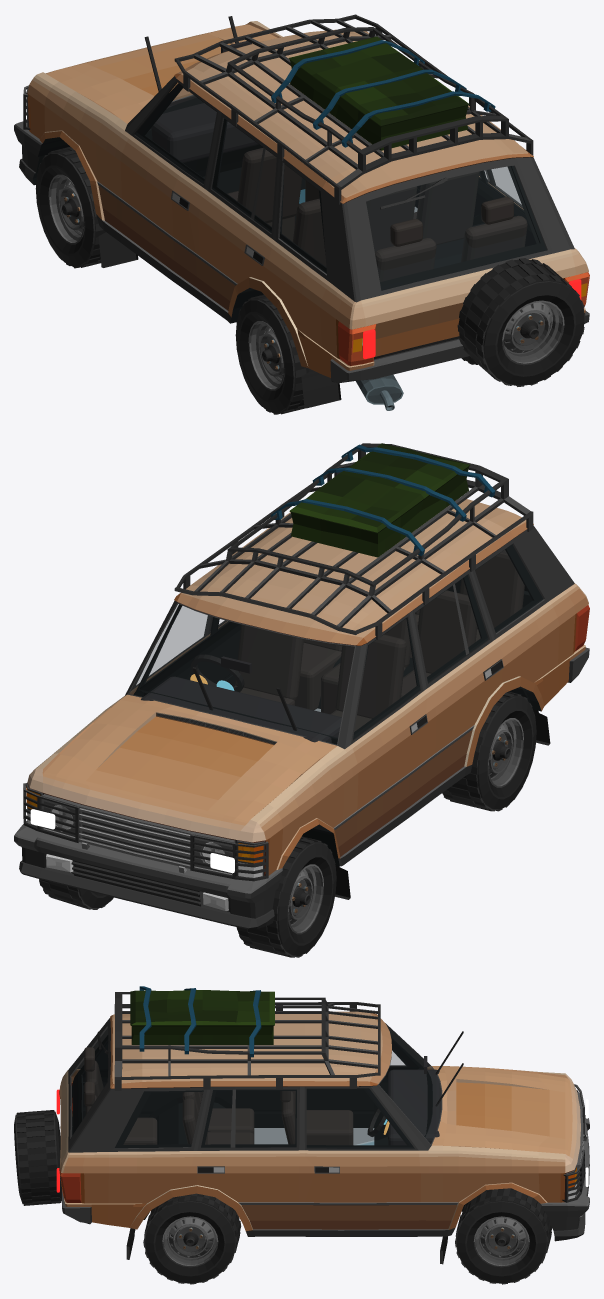
The model's file is intro_car.glb.
3 renders of one model, top to bottom at view 1: azimuth 30°, elevation 25°; view 2: azimuth 150°, elevation 25°; view 3: azimuth 270°, elevation 25°, orthographic. The views are drawn at different scales.
Visible parts, largest first — view 1: rr_Car.002, rr_Bag, rr_Car, rr_Spare Tire, rr_Car.015, rr_Tire2, rr_Tire1, car_dash, car_seatback_3, car_seatback_1, car_seatback_5, car_seatback_6 (+7 smaller); view 2: rr_Car.002, rr_Bag, rr_Car, rr_Car.015, rr_Tire1, rr_Tire2, car_dash, car_seatback_0, car_seatback_1, car_seatback_2, car_seatback_6, car_cushion_3 (+4 smaller); view 3: rr_Car.002, rr_Car.015, rr_Bag, rr_Car, rr_Tire3, rr_Tire4, rr_Spare Tire, car_dash, car_cushion_1, car_cushion_2, car_cushion_6, car_seatback_0 (+3 smaller).
Part boxes in pixels (x1,y1,x2,y2): rr_Car.002: (14, 21, 589, 383); rr_Bag: (271, 36, 495, 150); rr_Car: (174, 14, 533, 204); rr_Spare Tire: (457, 258, 585, 386); rr_Car.015: (135, 83, 546, 290); rr_Tire2: (235, 294, 309, 414); rr_Tire1: (35, 146, 105, 268); car_dash: (151, 101, 258, 162); car_seatback_3: (416, 171, 479, 244); car_seatback_1: (237, 148, 302, 223); car_seatback_5: (461, 215, 527, 262); car_seatback_6: (375, 238, 436, 281); rr_Car.002: (14, 499, 589, 929); rr_Bag: (271, 443, 495, 557); rr_Car: (174, 443, 533, 639); rr_Car.015: (133, 544, 543, 744); rr_Tire1: (236, 836, 336, 957); rr_Tire2: (442, 691, 536, 811); car_dash: (141, 676, 341, 743); car_seatback_0: (235, 624, 303, 700); car_seatback_1: (335, 634, 406, 718); car_seatback_2: (413, 590, 477, 673); car_seatback_6: (459, 550, 524, 629); car_cushion_3: (295, 642, 341, 710); rr_Car.002: (59, 1011, 589, 1241); rr_Car.015: (72, 1035, 432, 1219); rr_Bag: (130, 986, 274, 1057); rr_Car: (114, 992, 380, 1090); rr_Tire3: (455, 1188, 552, 1284); rr_Tire4: (143, 1193, 241, 1284); rr_Spare Tire: (14, 1110, 61, 1205); car_dash: (388, 1069, 441, 1145); car_cushion_1: (306, 1110, 353, 1145); car_cushion_2: (208, 1108, 254, 1135); car_cushion_6: (123, 1117, 157, 1144); car_seatback_0: (281, 1091, 295, 1144).
Bounding box in the file's own units: 2.08 × 2.4 × 5.35.
Materials: 9 (1 with a texture image).
